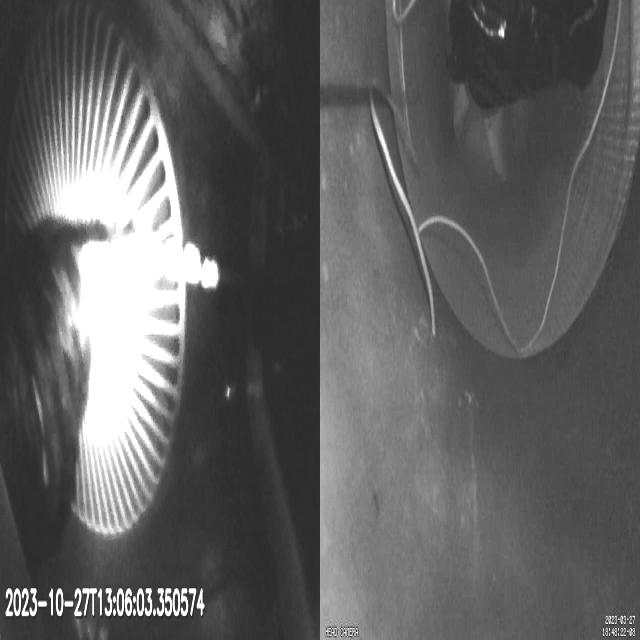white-dots: (164, 238, 218, 290)
